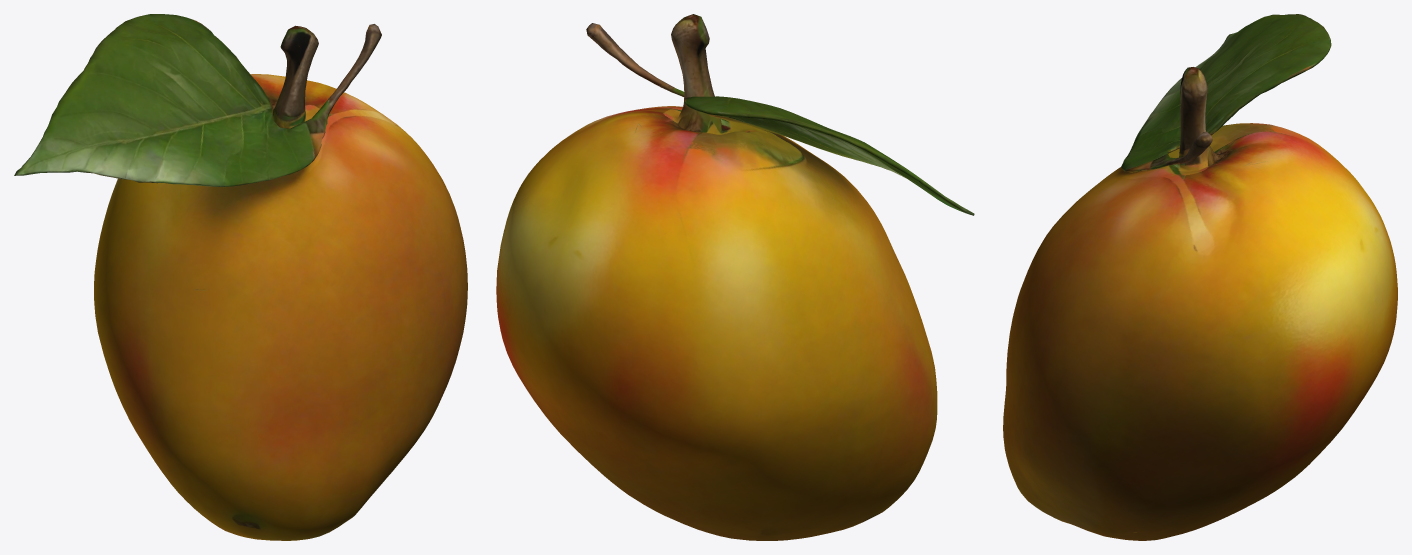
Rendered from Mango.glb.
3 renders of one model, left to right at view 1: azimuth 30°, elevation 25°; view 2: azimuth 150°, elevation 25°; view 3: azimuth 270°, elevation 25°, orthographic. The views are drawn at different scales.
Parts seen in each view (by area): view 1: Mango_Model; view 2: Mango_Model; view 3: Mango_Model.
Part boxes in pixels (x1=…): Mango_Model: x1=14, y1=14, x2=467, y2=540; Mango_Model: x1=496, y1=14, x2=974, y2=540; Mango_Model: x1=1003, y1=14, x2=1397, y2=540.
Size of the model in its own units: 1.88 by 2 by 1.51.
Materials: 1 (1 with a texture image).
